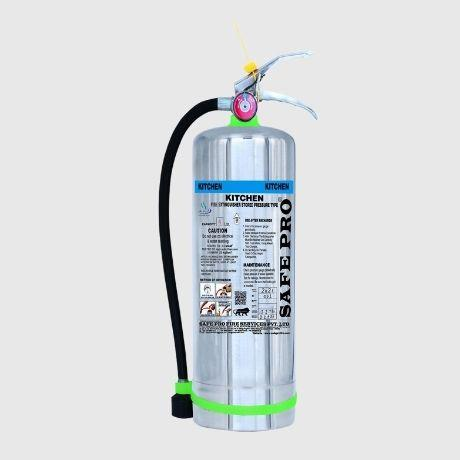Fire Extinguisher: (152, 44, 328, 436)
